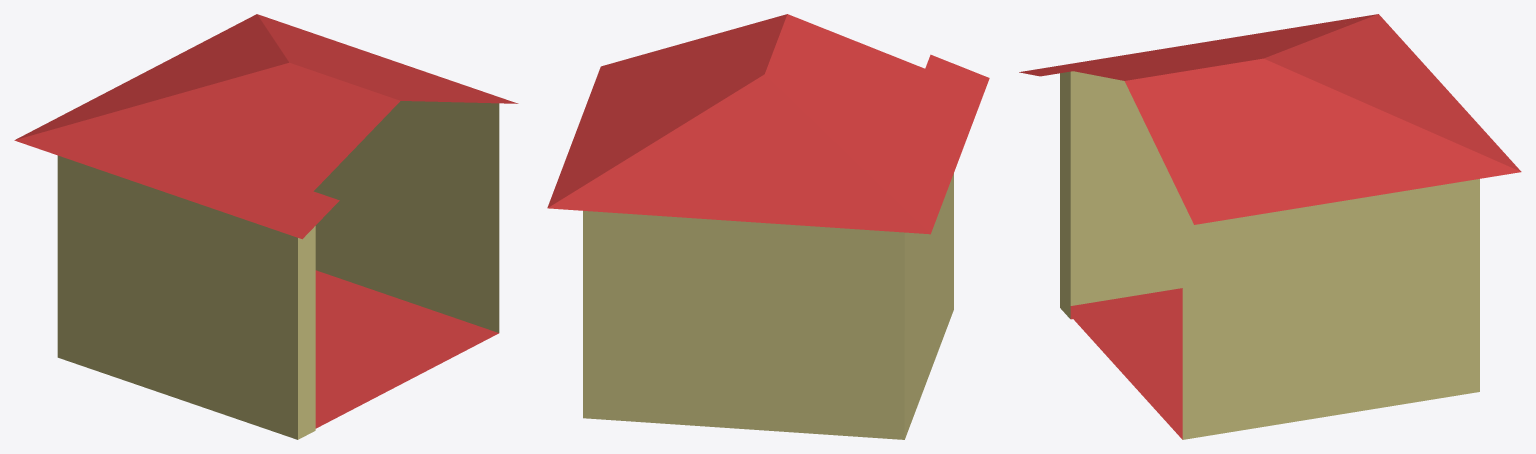
3 renders of one model, left to right at view 1: azimuth 30°, elevation 25°; view 2: azimuth 150°, elevation 25°; view 3: azimuth 270°, elevation 25°, orthographic. The views are drawn at different scales.
Bounding box in the file's own units: 11.58 × 11.68 × 7.54.
